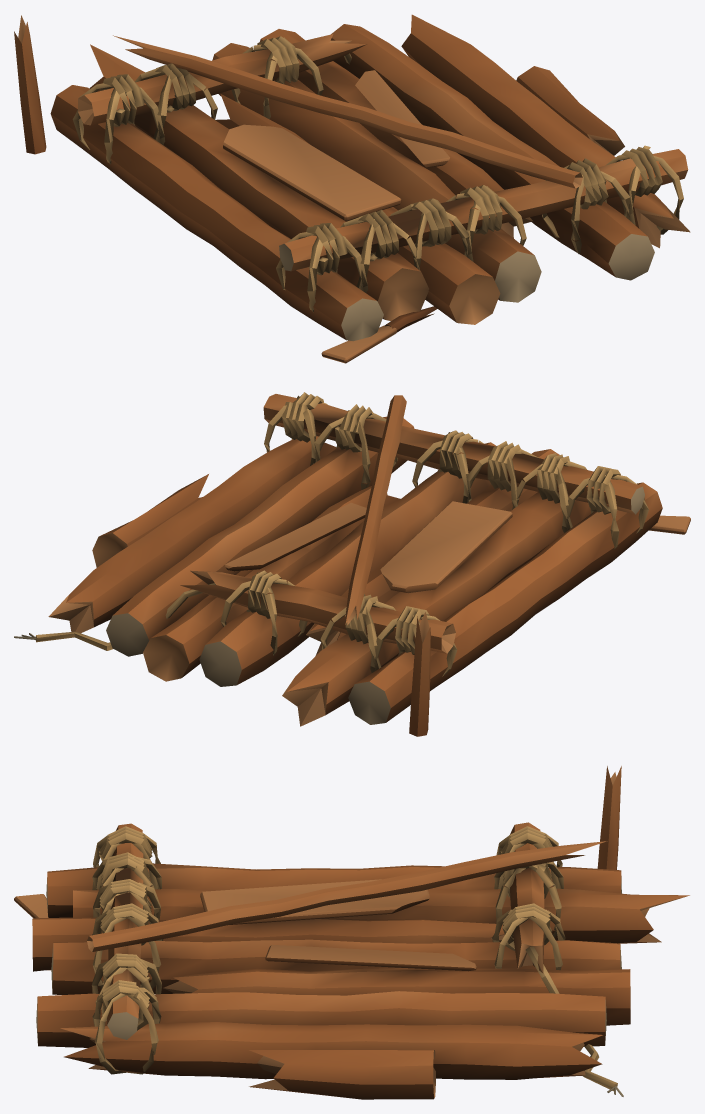
File: building-brokenRaft.glb
3 renders of one model, top to bottom at view 1: azimuth 30°, elevation 25°; view 2: azimuth 150°, elevation 25°; view 3: azimuth 270°, elevation 25°, orthographic. The views are drawn at different scales.
Parts seen in each view (by area): view 1: 0_brokenRaft; view 2: 0_brokenRaft; view 3: 0_brokenRaft.
Part boxes in pixels (box(x1,y1,x2,y2)): 0_brokenRaft: box(14, 14, 690, 363); 0_brokenRaft: box(14, 392, 690, 736); 0_brokenRaft: box(14, 766, 689, 1099).
Bounding box in the file's own units: 2.05 × 0.5737 × 2.7.
